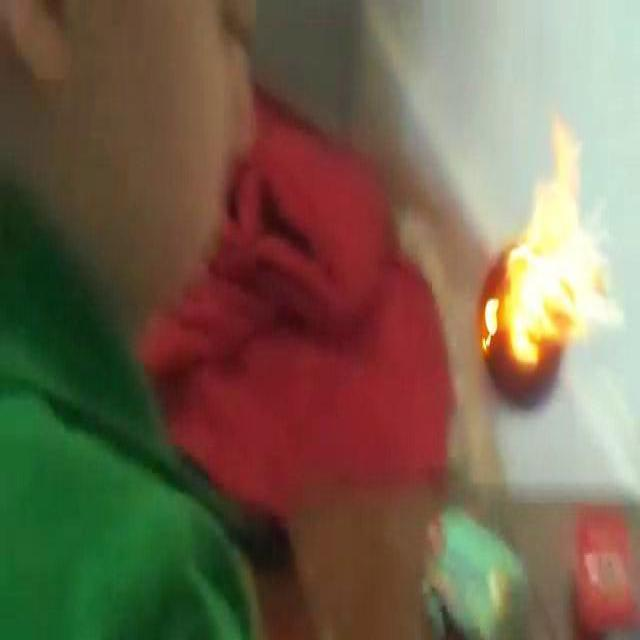smoke: (480, 130, 626, 370)
